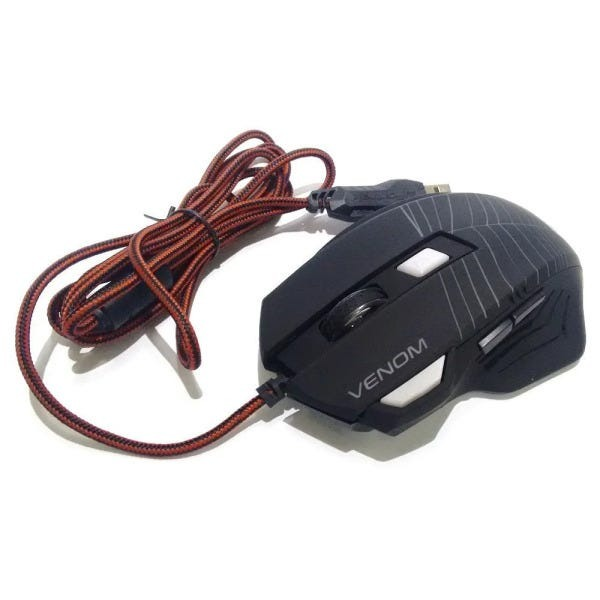mouse: (254, 193, 584, 447)
